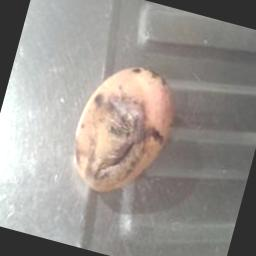Mango Rotten: (56, 47, 186, 206)
